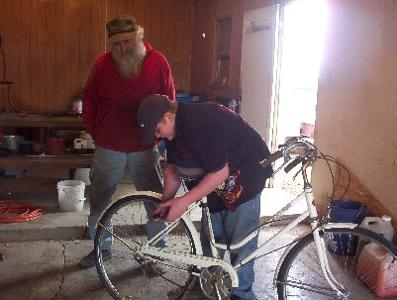person: (138, 94, 273, 300)
